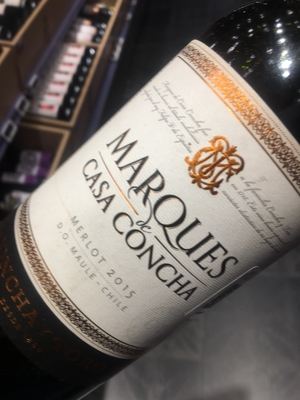marques de casa concha merlot: (6, 51, 300, 371)
